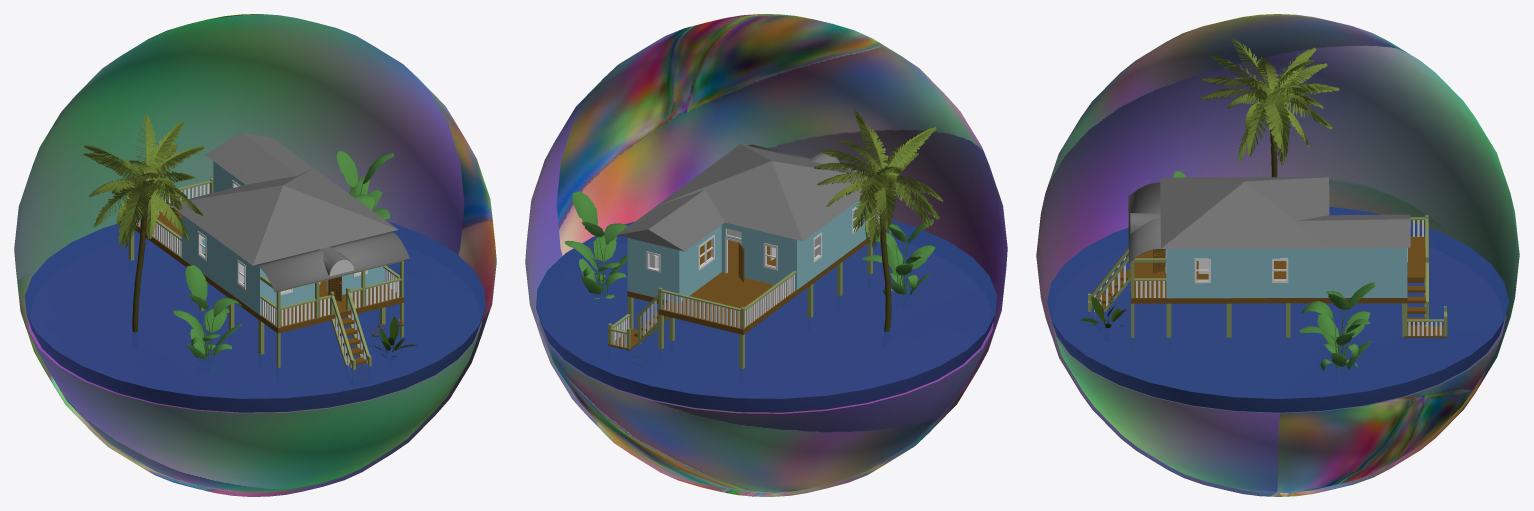
Rendered from QlderFlood_sphere1.glb.
3 renders of one model, left to right at view 1: azimuth 30°, elevation 25°; view 2: azimuth 150°, elevation 25°; view 3: azimuth 270°, elevation 25°, orthographic.
Parts seen in each view (by area): view 1: Sphere, Sphere.001, Sphere.003, Roof curved, Leaves.001, Wall.003, Floor, plant.002, Wall.067, Wall.047, Wall.001, plant.001 (+4 smaller); view 2: Sphere, Sphere.001, Sphere.003, Roof curved, Leaves.001, Floor, plant.001, Wall.003, Wall.002, Wall.008, plant.002, Wall.067 (+5 smaller); view 3: Sphere, Sphere.001, Sphere.003, Roof curved, Wall.011, Leaves.001, Floor, plant.001, Wall.067, Cube.021, Wall.047, paradise_obj.
Boxes of the visible parts, left/top/right/bottom form: Sphere: left=14, top=14, right=496, bottom=496; Sphere.001: left=25, top=222, right=485, bottom=412; Sphere.003: left=27, top=318, right=481, bottom=492; Roof curved: left=168, top=132, right=409, bottom=292; Leaves.001: left=83, top=114, right=204, bottom=249; Wall.003: left=181, top=214, right=260, bottom=314; Floor: left=130, top=209, right=404, bottom=333; plant.002: left=173, top=265, right=241, bottom=360; Wall.067: left=128, top=178, right=403, bottom=367; Wall.047: left=260, top=266, right=401, bottom=370; Wall.001: left=260, top=265, right=385, bottom=314; plant.001: left=336, top=151, right=394, bottom=219; Sphere: left=525, top=14, right=1007, bottom=496; Sphere.001: left=536, top=220, right=996, bottom=412; Sphere.003: left=539, top=320, right=993, bottom=492; Roof curved: left=617, top=144, right=867, bottom=251; Leaves.001: left=814, top=109, right=942, bottom=247; Floor: left=627, top=220, right=891, bottom=334; plant.001: left=564, top=191, right=628, bottom=298; Wall.003: left=795, top=201, right=873, bottom=290; Wall.002: left=721, top=222, right=794, bottom=288; Wall.008: left=627, top=240, right=677, bottom=302; plant.002: left=863, top=219, right=935, bottom=295; Wall.067: left=608, top=219, right=891, bottom=368; Sphere: left=1036, top=14, right=1519, bottom=496; Sphere.001: left=1047, top=206, right=1508, bottom=412; Sphere.003: left=1051, top=315, right=1506, bottom=492; Roof curved: left=1128, top=177, right=1410, bottom=262; Wall.011: left=1168, top=248, right=1407, bottom=298; Leaves.001: left=1200, top=38, right=1339, bottom=164; Floor: left=1130, top=236, right=1429, bottom=303; plant.001: left=1299, top=282, right=1375, bottom=370; Wall.067: left=1130, top=215, right=1447, bottom=337; Cube.021: left=1403, top=286, right=1447, bottom=337; Wall.047: left=1088, top=247, right=1166, bottom=311; paradise_obj: left=1080, top=292, right=1126, bottom=327.
Size of the model in its own units: 2 by 2 by 2.
19 materials, 1 textured.
